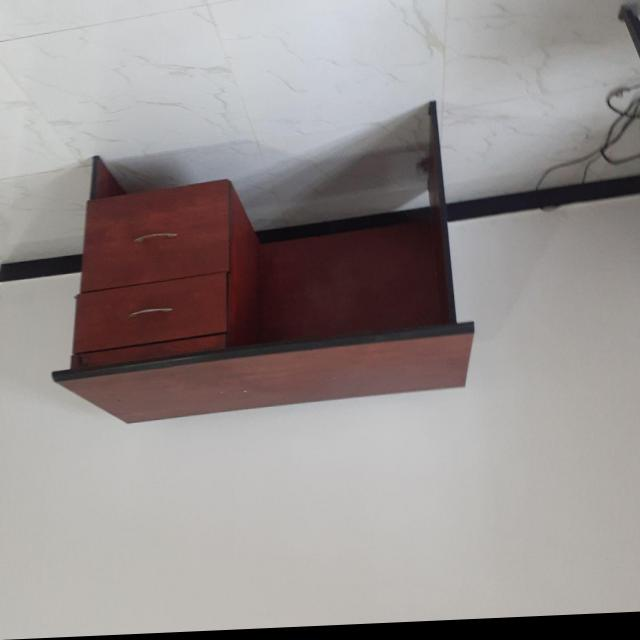Table: (39, 96, 502, 451)
